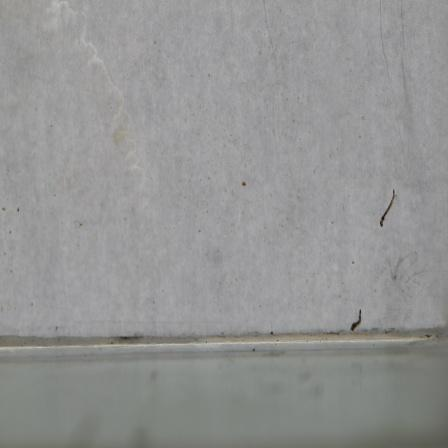Jentik-Nyamuk: (376, 184, 398, 232), (348, 305, 366, 338)
